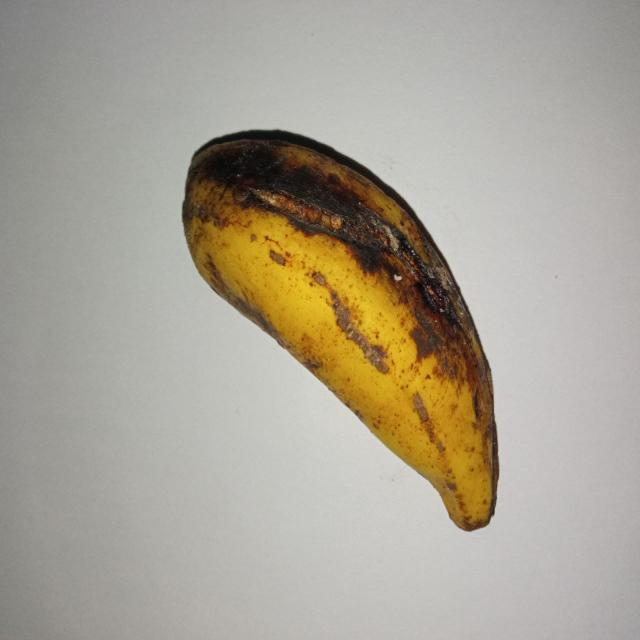rotten_banana: (183, 132, 498, 530)
